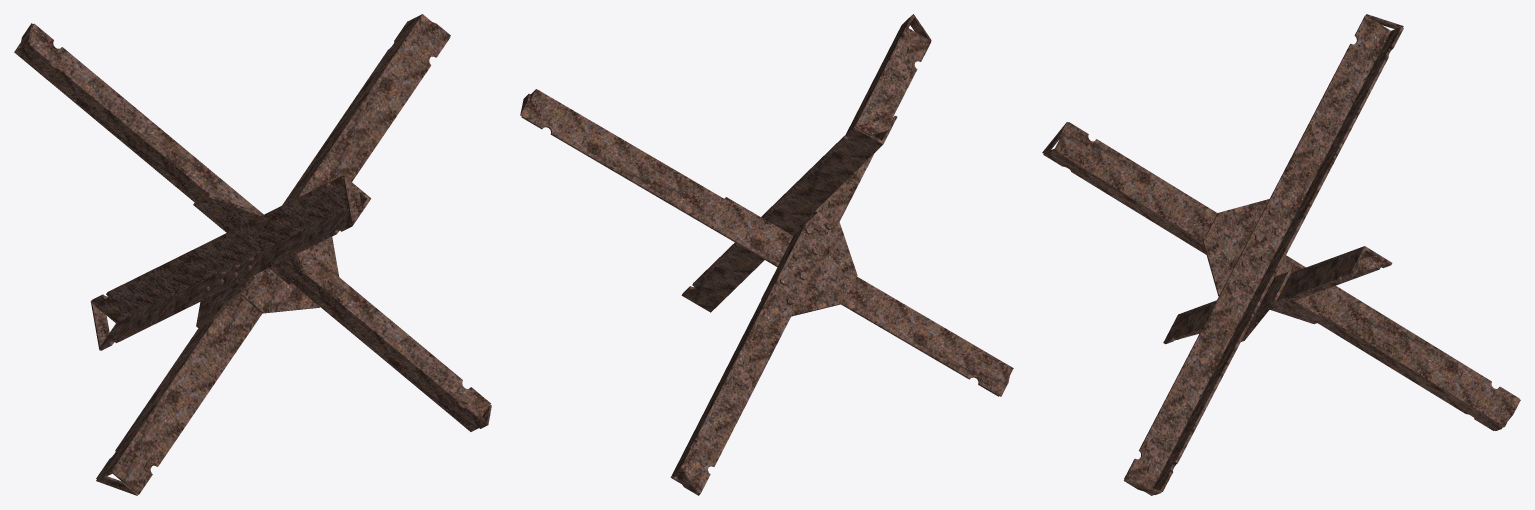
The model's file is ezz (1).glb.
The picture shows the model from 3 angles, left to right: view 1: azimuth 30°, elevation 25°; view 2: azimuth 150°, elevation 25°; view 3: azimuth 270°, elevation 25°; orthographic projection. The views are drawn at different scales.
Visible parts, largest first — view 1: Material2; view 2: Material2; view 3: Material2.
Part boxes in pixels (bbox=[...]): Material2: bbox=[14, 14, 491, 495]; Material2: bbox=[520, 14, 1013, 495]; Material2: bbox=[1042, 14, 1520, 495].
Size of the model in its own units: 43.85 by 37.91 by 46.4.
1 material, 1 textured.
